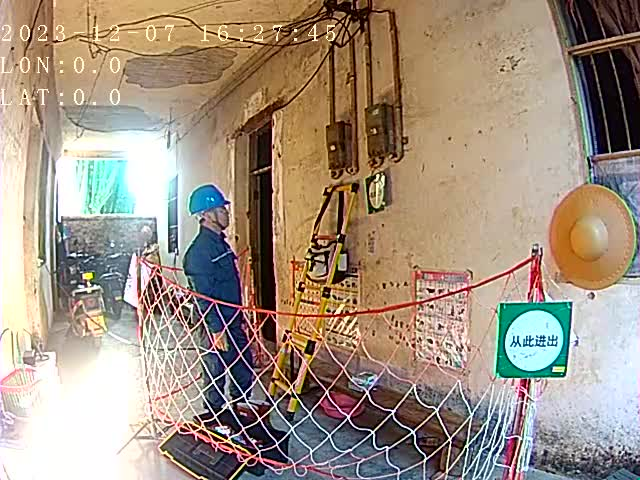downsuit: (190, 322, 258, 409)
halt: (189, 183, 233, 230)
hand: (213, 332, 229, 350)
inear: (194, 207, 227, 230)
intosign: (490, 298, 573, 379)
person: (178, 181, 278, 421)
upsuit: (183, 231, 245, 330)
